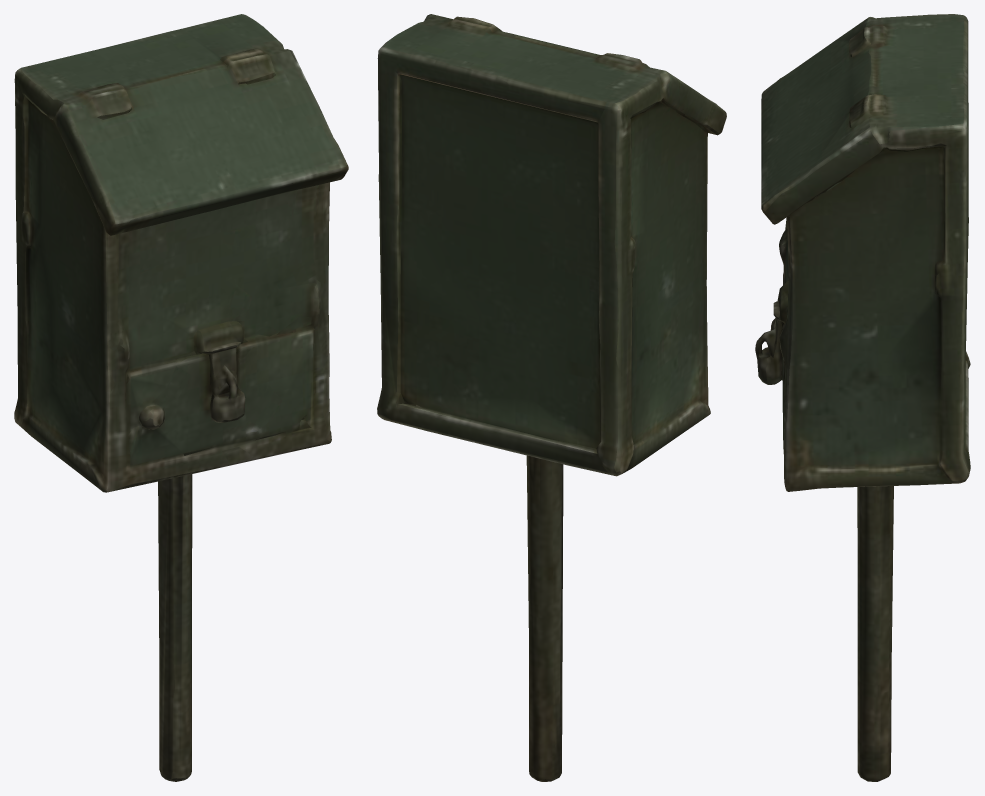
Rendered from letterbox.glb.
The picture shows the model from 3 angles, left to right: view 1: azimuth 30°, elevation 25°; view 2: azimuth 150°, elevation 25°; view 3: azimuth 270°, elevation 25°; orthographic projection. The views are drawn at different scales.
Visible parts, largest first — view 1: base, lid; view 2: base, lid; view 3: base, lid.
Part boxes in pixels (x1,y1,x2,y2): base: (14, 14, 331, 781); lid: (15, 14, 348, 235); base: (377, 42, 710, 781); lid: (383, 14, 726, 135); base: (755, 15, 970, 781); lid: (761, 14, 968, 224).
Size of the model in its own units: 0.7052 by 2 by 0.5496.
1 material, 1 textured.
